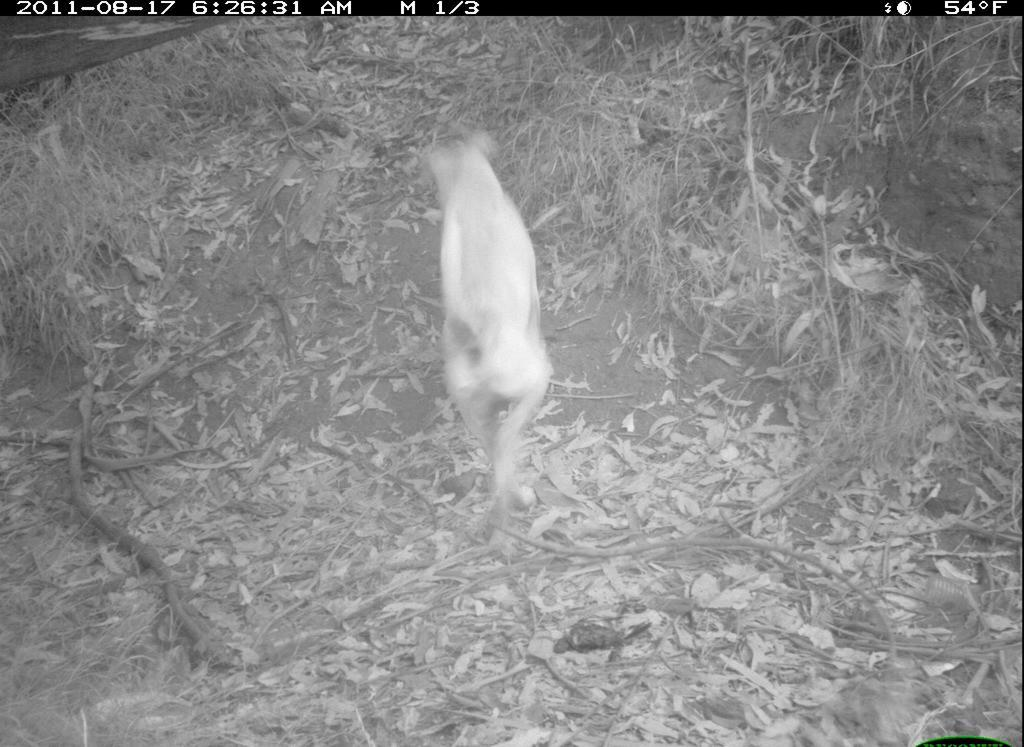dog: (414, 120, 577, 519)
